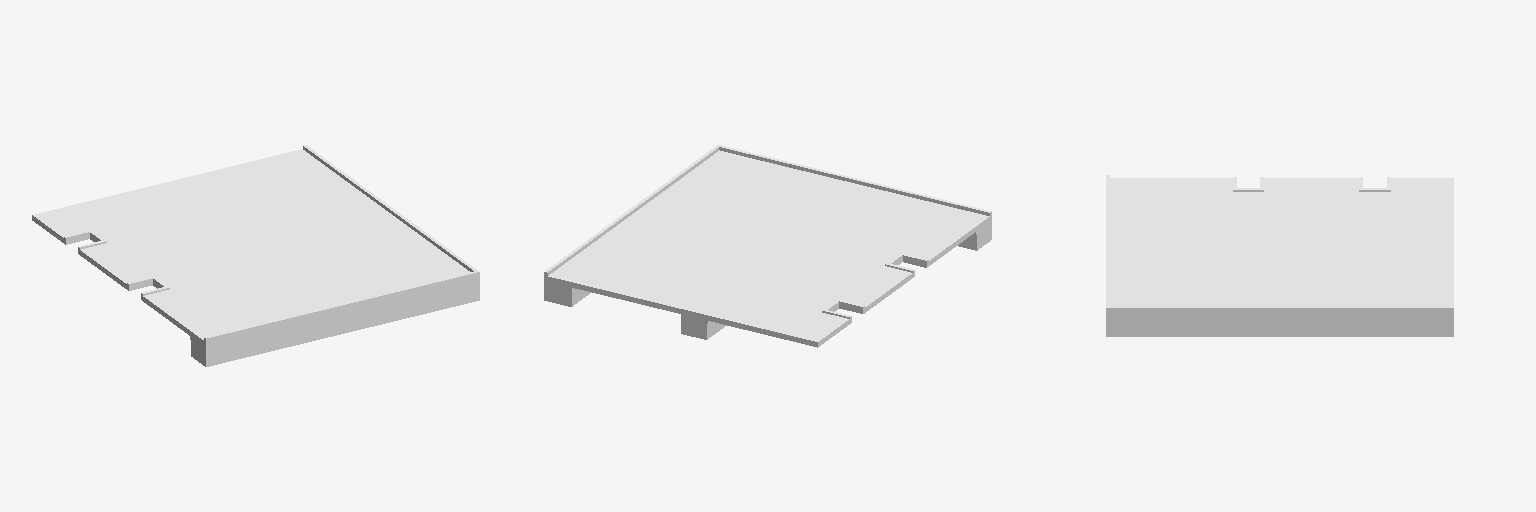
File: CeilingCondensed2.obj
3 renders of one model, left to right at view 1: azimuth 30°, elevation 25°; view 2: azimuth 150°, elevation 25°; view 3: azimuth 270°, elevation 25°, orthographic.
Parts seen in each view (by area): view 1: object 1; view 2: object 1; view 3: object 1.
Boxes of the visible parts, box(x1,y1,x2,y2) form: object 1: box(32, 145, 479, 366); object 1: box(544, 145, 991, 347); object 1: box(1106, 175, 1453, 336).
Bounding box in the file's own units: 16 × 1.6 × 17.6.